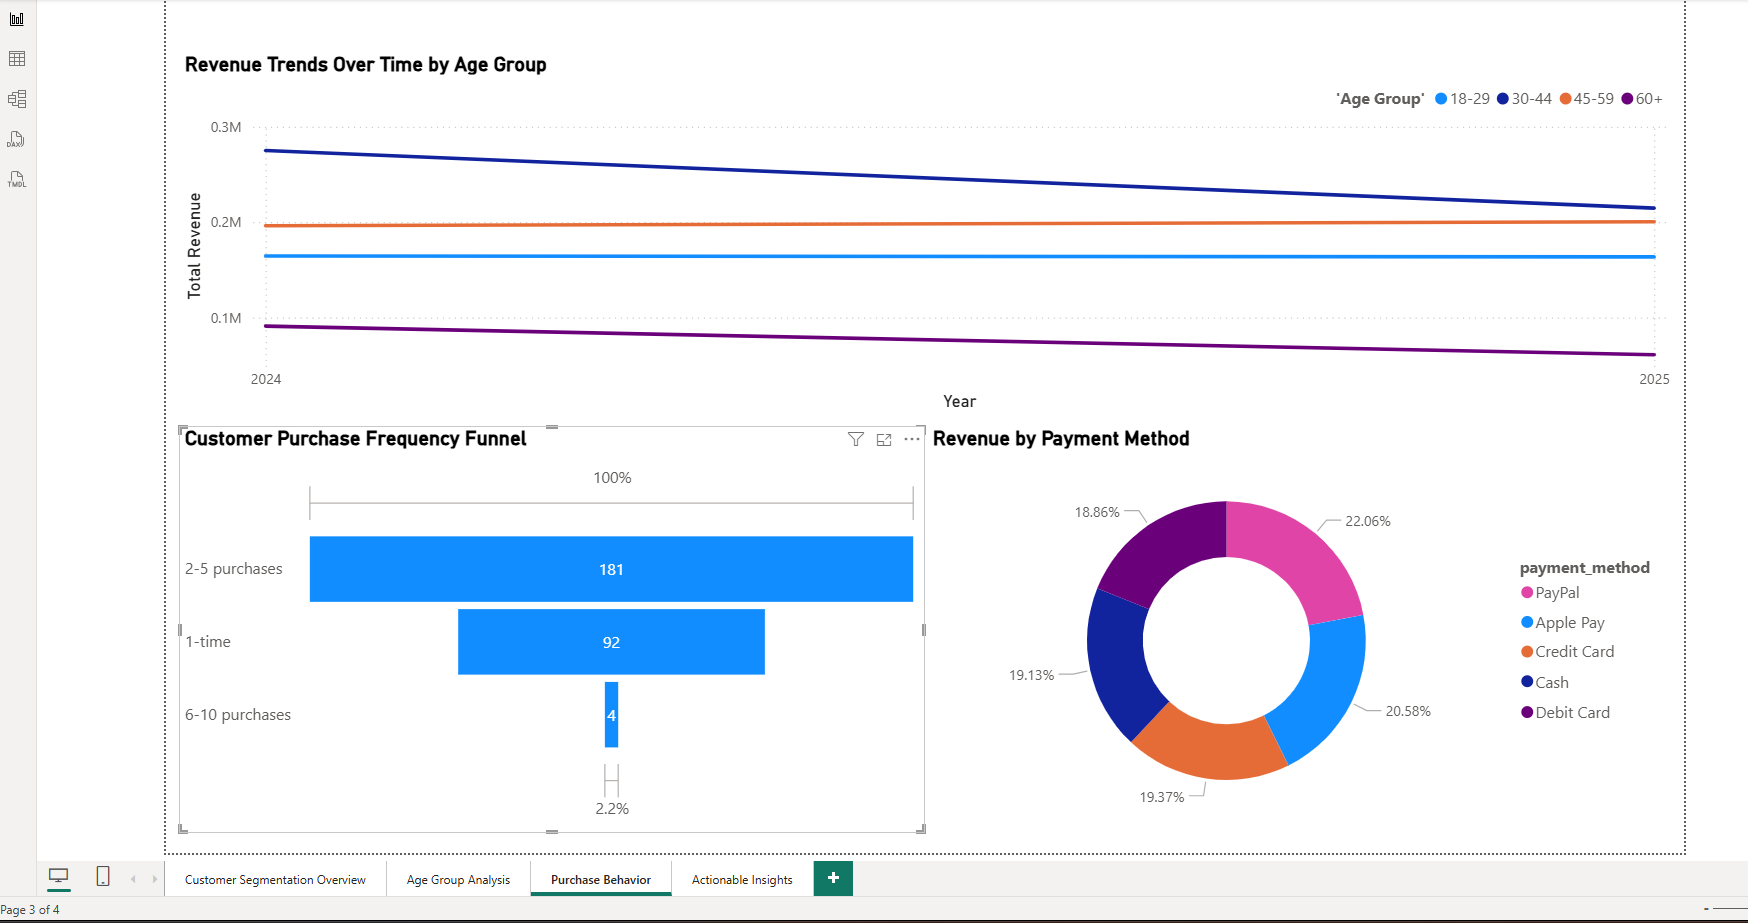

The page's visual inventory and layout, read from the dashboard file:
{"tool":"powerbi","page":{"name":"Purchase Behavior","canvas":[1280,720],"ordinal":2},"visuals":[{"type":"lineChart","title":"Revenue Trends Over Time by Age Group","fields":{"Category":["dim_dates.full_date.Variation.Date Hierarchy.Year","dim_dates.full_date.Variation.Date Hierarchy.Quarter","dim_dates.full_date.Variation.Date Hierarchy.Month","dim_dates.full_date.Variation.Date Hierarchy.Day"],"Y":["dim_customers.Total Revenue"],"Series":["dim_customers.'Age Group'"]},"box":[11,44.9,1261.7,306.7],"z":0},{"type":"funnel","title":"Customer Purchase Frequency Funnel","fields":{"Y":["dim_customers.Total Customers"],"Category":["fact_sales.Purchase Frequency Segment"]},"box":[11,359.8,629,343.3],"z":1000},{"type":"donutChart","title":"Revenue by Payment Method","fields":{"Category":["fact_sales.payment_method"],"Y":["dim_customers.Total Revenue"]},"box":[641.8,359.8,630.8,343.3],"z":2000}]}

Visuals, with their boxes on the page's 1280x720 design canvas (x1, y1, x2, y2). These are canvas units, not pixel positions in the 1748x923 screenshot, which may show the page scaled, cropped or inside an application window:
"Revenue Trends Over Time by Age Group" lineChart: bbox(11, 45, 1273, 352)
"Customer Purchase Frequency Funnel" funnel: bbox(11, 360, 640, 703)
"Revenue by Payment Method" donutChart: bbox(642, 360, 1273, 703)
